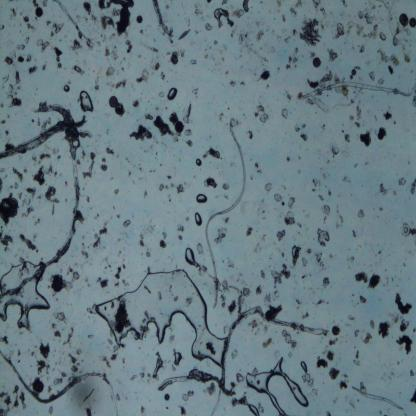Air bubble: (94, 269, 223, 368), (245, 356, 310, 416), (0, 258, 51, 330), (78, 90, 96, 116), (184, 247, 200, 267), (165, 87, 179, 103), (173, 349, 183, 369), (193, 211, 204, 228), (299, 358, 310, 375), (194, 192, 210, 202), (64, 83, 72, 95), (196, 159, 203, 167)
Background material: (98, 2, 136, 40), (224, 278, 248, 311), (0, 192, 21, 225), (113, 299, 131, 334), (301, 16, 322, 46), (96, 39, 119, 65), (127, 124, 154, 145), (153, 117, 177, 140), (272, 263, 292, 289), (395, 290, 416, 314), (212, 8, 235, 29), (18, 234, 40, 254), (396, 333, 414, 357), (12, 384, 28, 411), (246, 316, 266, 337), (82, 150, 96, 180), (0, 227, 16, 253), (252, 104, 270, 127), (353, 327, 373, 346), (289, 242, 304, 267), (334, 202, 346, 233), (264, 302, 284, 320), (31, 164, 46, 188), (312, 250, 327, 273), (282, 330, 299, 350), (316, 228, 332, 249), (45, 186, 61, 207), (62, 324, 76, 348), (202, 147, 224, 162), (235, 0, 253, 18), (152, 354, 164, 381), (53, 308, 71, 326), (46, 20, 65, 37), (98, 352, 121, 366), (359, 130, 374, 150), (378, 319, 392, 340), (368, 271, 382, 292), (213, 225, 229, 243), (333, 21, 348, 40), (356, 12, 376, 26), (67, 356, 81, 376), (353, 269, 368, 287), (38, 340, 51, 360), (284, 211, 299, 228), (22, 14, 36, 32), (53, 45, 63, 70), (11, 165, 24, 184), (168, 52, 183, 68), (36, 40, 52, 55), (136, 70, 152, 85), (68, 265, 82, 282), (82, 387, 96, 404), (93, 69, 104, 90), (62, 278, 76, 294), (2, 53, 16, 69), (204, 176, 218, 192), (184, 101, 194, 123), (114, 264, 127, 280), (314, 357, 330, 370), (35, 360, 47, 377), (182, 388, 196, 402), (340, 172, 354, 186), (5, 84, 18, 99), (388, 53, 401, 68), (347, 65, 360, 80), (0, 391, 13, 406), (275, 227, 288, 242), (229, 346, 241, 362), (92, 233, 103, 250), (81, 2, 95, 15), (328, 50, 341, 64), (307, 76, 320, 90), (287, 57, 301, 70), (259, 68, 272, 82), (399, 314, 409, 332), (262, 180, 274, 195), (376, 126, 386, 144), (376, 49, 388, 64), (205, 341, 217, 356), (96, 227, 112, 238), (113, 79, 129, 90), (252, 159, 262, 176), (353, 349, 363, 366), (280, 106, 290, 123), (233, 371, 245, 385), (185, 55, 199, 67), (8, 7, 20, 21), (121, 216, 133, 230), (229, 23, 240, 38), (245, 225, 255, 241), (330, 142, 340, 158), (378, 182, 388, 198), (47, 164, 59, 177), (97, 277, 110, 289), (358, 293, 370, 306), (71, 40, 85, 51), (177, 404, 191, 415), (311, 176, 322, 190), (156, 288, 167, 302), (321, 275, 330, 292), (9, 98, 24, 108), (254, 28, 264, 43), (243, 130, 258, 140), (355, 104, 365, 119), (337, 379, 349, 391), (272, 191, 284, 203), (176, 182, 185, 198), (105, 66, 117, 78), (104, 145, 116, 157), (355, 208, 366, 221), (382, 111, 395, 122), (286, 198, 299, 209), (204, 21, 215, 34), (409, 385, 416, 405), (0, 333, 10, 347), (137, 236, 147, 250), (330, 366, 340, 380), (1, 73, 10, 88), (14, 42, 26, 53), (206, 383, 218, 394), (46, 402, 56, 415), (409, 178, 416, 196), (379, 30, 388, 44), (125, 39, 134, 53), (14, 69, 21, 87), (141, 186, 150, 200), (131, 96, 140, 110), (326, 350, 337, 361), (158, 182, 169, 193), (29, 65, 40, 76), (169, 112, 179, 124), (391, 36, 401, 48), (281, 154, 293, 164), (254, 284, 264, 296), (22, 34, 32, 46), (100, 162, 110, 174), (343, 132, 353, 144), (0, 405, 13, 414), (112, 186, 121, 199), (52, 378, 65, 387), (73, 65, 84, 75), (404, 54, 414, 65), (396, 176, 406, 187), (226, 77, 236, 88), (57, 368, 67, 378), (158, 239, 168, 249), (259, 269, 268, 280), (368, 70, 377, 81), (25, 54, 34, 65), (185, 139, 196, 148), (220, 183, 231, 192), (323, 205, 332, 216), (280, 12, 288, 24), (86, 406, 95, 416), (354, 120, 363, 130), (348, 112, 356, 123), (318, 192, 326, 203), (289, 7, 300, 15), (368, 317, 376, 328), (177, 226, 188, 234), (295, 123, 302, 135), (0, 22, 7, 34), (53, 329, 62, 338), (301, 132, 310, 141), (192, 87, 200, 97), (387, 65, 395, 75), (17, 56, 26, 64), (148, 283, 153, 297), (154, 60, 160, 70), (160, 70, 166, 80), (360, 46, 367, 54), (140, 403, 146, 412)
Cellulose filter fibre: (158, 303, 330, 393), (30, 102, 84, 267), (0, 350, 122, 414), (294, 73, 416, 103), (0, 120, 88, 160), (54, 2, 96, 46), (351, 383, 409, 413), (150, 1, 176, 41)
Diatom: (176, 28, 193, 43), (396, 11, 410, 29), (32, 378, 46, 396), (52, 276, 63, 294), (401, 222, 412, 238), (108, 96, 120, 110), (173, 120, 185, 134), (162, 391, 173, 405), (34, 6, 45, 19), (331, 324, 341, 337), (135, 15, 145, 27), (408, 15, 416, 29), (312, 57, 322, 68), (263, 337, 273, 345)
Microfibre: (205, 120, 248, 310)
